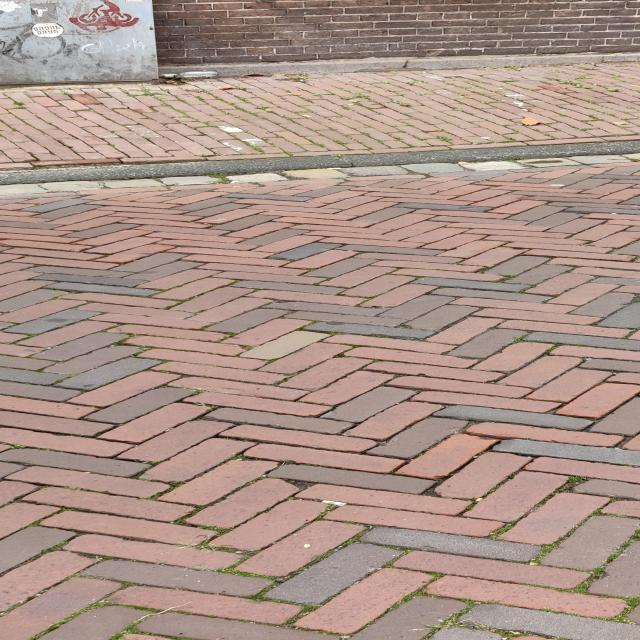litter: (321, 499, 349, 506)
